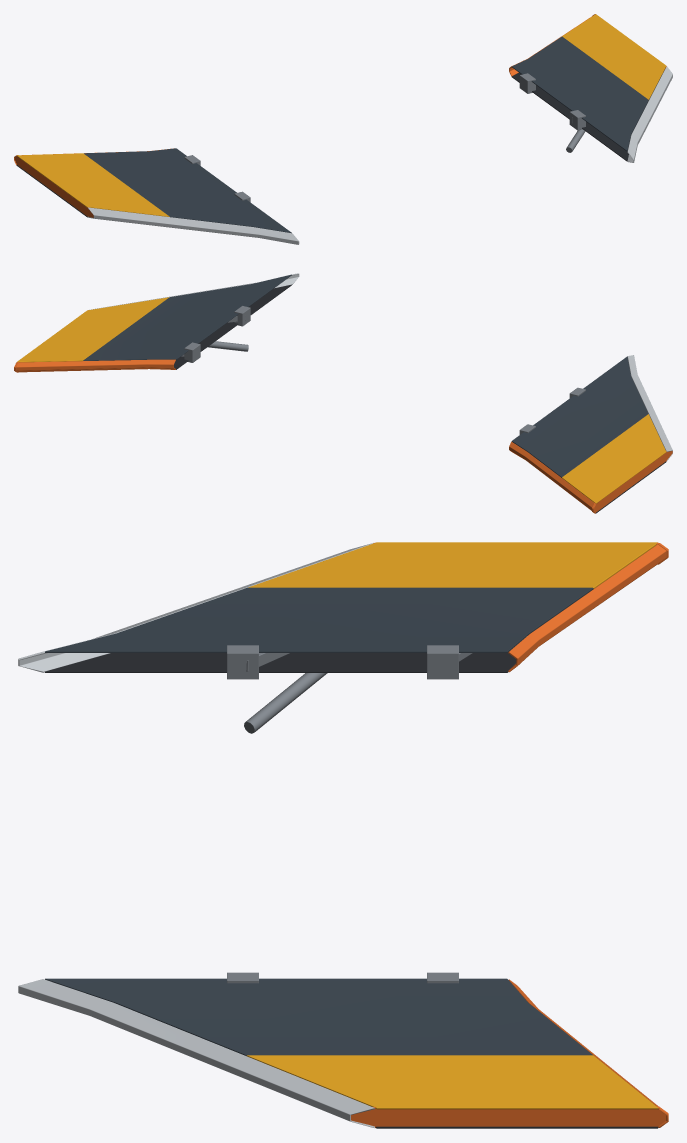
File: bastion_wing_brace.fbx
The picture shows the model from 3 angles, top to bottom: view 1: azimuth 30°, elevation 25°; view 2: azimuth 150°, elevation 25°; view 3: azimuth 270°, elevation 25°; orthographic projection. The views are drawn at different scales.
Visible parts, largest first — view 1: Wing_Top_L.001, Wing_Top_R.001, Wing_LE_L.001, Wing_LE_R.001, Wing_Bottom_R.001, Wing_Tip_L.001, Wing_Structure_R.001; view 2: Wing_Top_L.001, Wing_Top_R.001, Wing_TE_R.001, Wing_TE_L.001, Wing_Bottom_R.001, Wing_LE_L.001, Wing_Tip_L.001, Wing_Structure_R.001; view 3: Wing_Top_R.001, Wing_Top_L.001, Wing_LE_R.001, Wing_Bottom_L.001, Wing_Tip_R.001, Wing_TE_L.001, Wing_Structure_L.001, Wing_LE_L.001, Wing_Brace_Extra_L, Wing_Bottom_R.001.
Boxes of the visible parts, x1,y1,x2,y2 form: Wing_Top_L.001: [16, 148, 291, 233]; Wing_Top_R.001: [511, 14, 666, 151]; Wing_LE_L.001: [87, 207, 299, 244]; Wing_LE_R.001: [627, 66, 672, 162]; Wing_Bottom_R.001: [512, 73, 659, 161]; Wing_Tip_L.001: [15, 155, 93, 217]; Wing_Structure_R.001: [519, 73, 662, 139]; Wing_Top_L.001: [511, 356, 666, 503]; Wing_Top_R.001: [16, 274, 291, 362]; Wing_TE_R.001: [14, 359, 175, 372]; Wing_TE_L.001: [509, 441, 595, 513]; Wing_Bottom_R.001: [174, 284, 291, 369]; Wing_LE_L.001: [627, 355, 672, 461]; Wing_Tip_L.001: [592, 451, 672, 513]; Wing_Structure_R.001: [181, 306, 250, 362]; Wing_Top_R.001: [45, 978, 658, 1109]; Wing_Top_L.001: [45, 542, 657, 652]; Wing_LE_R.001: [18, 979, 374, 1127]; Wing_Bottom_L.001: [45, 652, 516, 672]; Wing_Tip_R.001: [351, 1106, 668, 1127]; Wing_TE_L.001: [508, 543, 668, 672]; Wing_Structure_L.001: [227, 636, 526, 679]; Wing_LE_L.001: [18, 542, 374, 672]; Wing_Brace_Extra_L: [244, 673, 327, 733]; Wing_Bottom_R.001: [375, 1126, 658, 1128].
Bounding box in the file's own units: 415 × 26.62 × 202.
